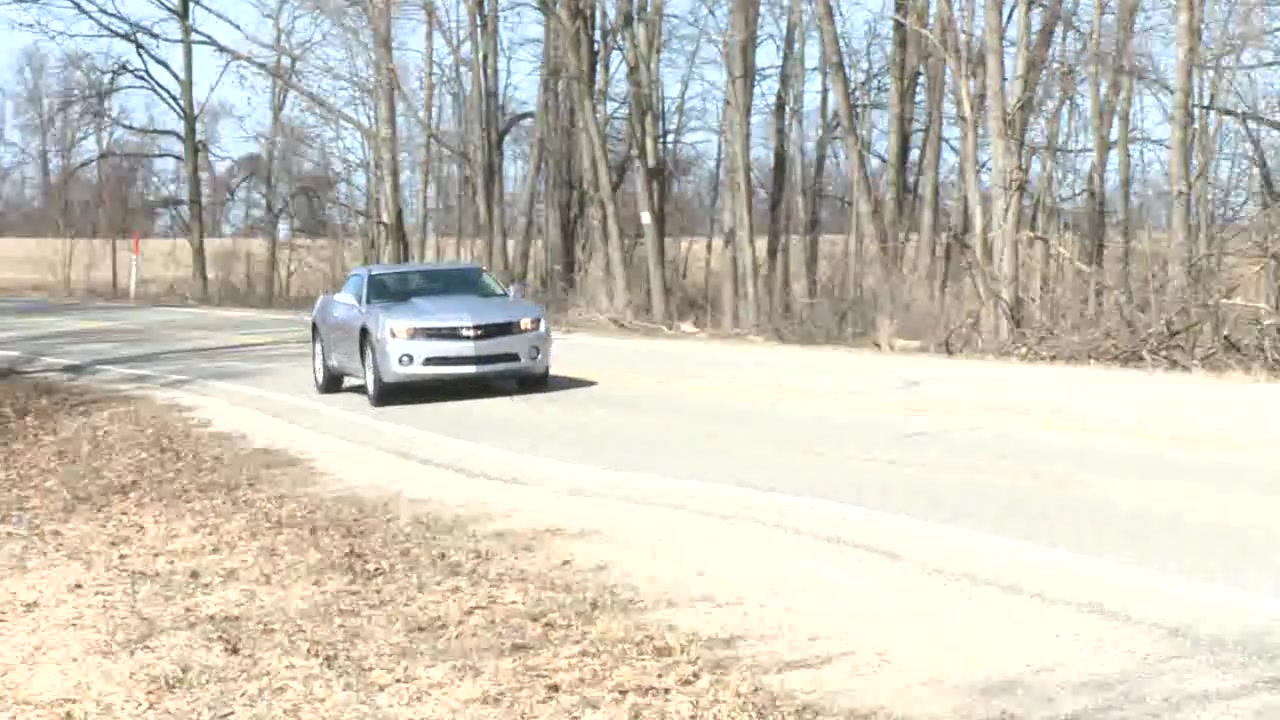car: (309, 264, 561, 407)
